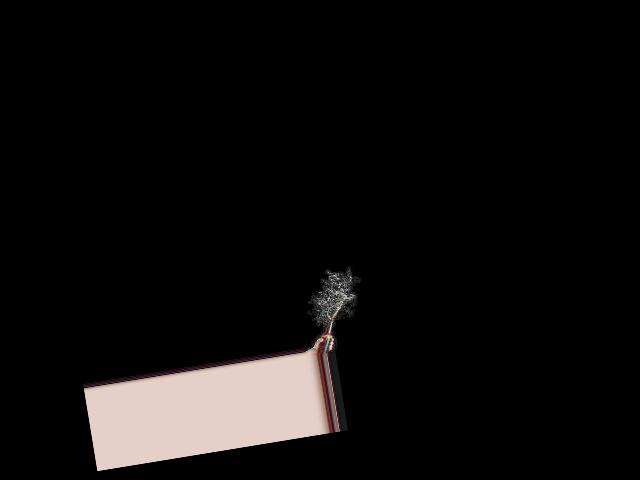beer: (310, 318, 339, 355)
